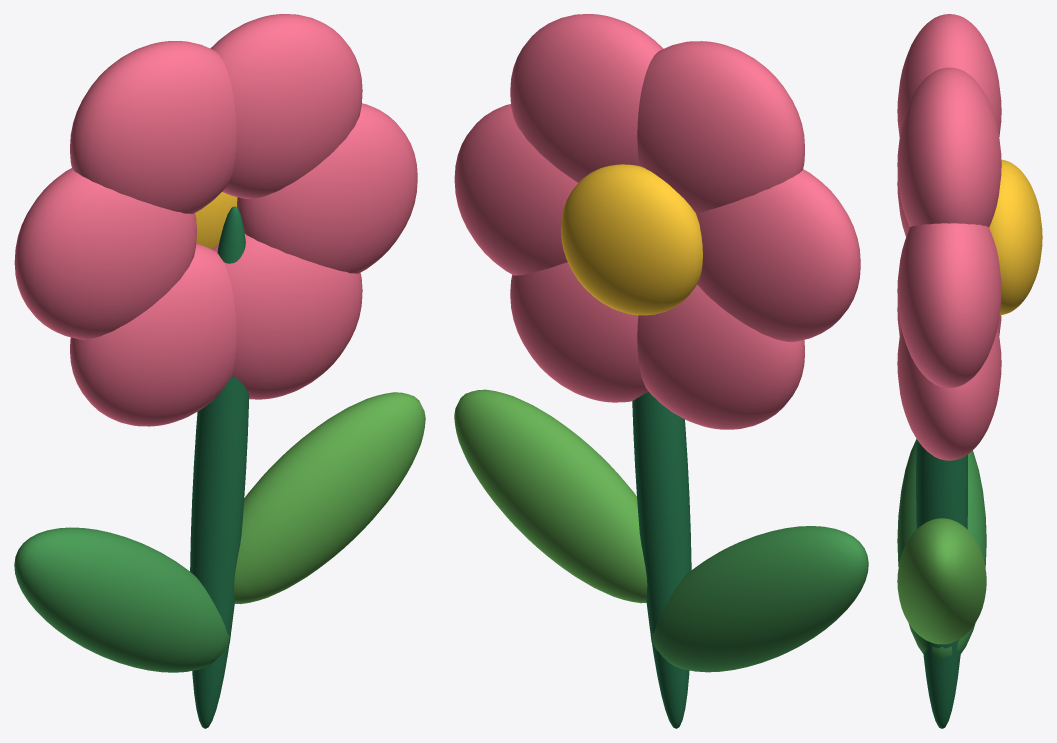
Rendered from flower.glb.
3 renders of one model, left to right at view 1: azimuth 30°, elevation 25°; view 2: azimuth 150°, elevation 25°; view 3: azimuth 270°, elevation 25°, orthographic.
Visible parts, largest first — view 1: petal (×6), leaf (×2), stem, center; view 2: petal (×6), leaf (×2), center, stem; view 3: petal (×4), leaf (×2), stem, center.
Part boxes in pixels (x1,y1,x2,y2): petal (×6): (14, 14, 417, 426); leaf (×2): (14, 392, 425, 672); stem: (190, 206, 249, 728); center: (195, 192, 237, 249); petal (×6): (454, 14, 860, 429); leaf (×2): (454, 389, 868, 672); center: (561, 164, 702, 315); stem: (632, 392, 691, 728); petal (×4): (897, 14, 1001, 460); leaf (×2): (897, 440, 986, 658); stem: (916, 438, 967, 728); center: (989, 159, 1042, 315).
Bounding box in the file's own units: 0.5545 × 0.9 × 0.1726.
